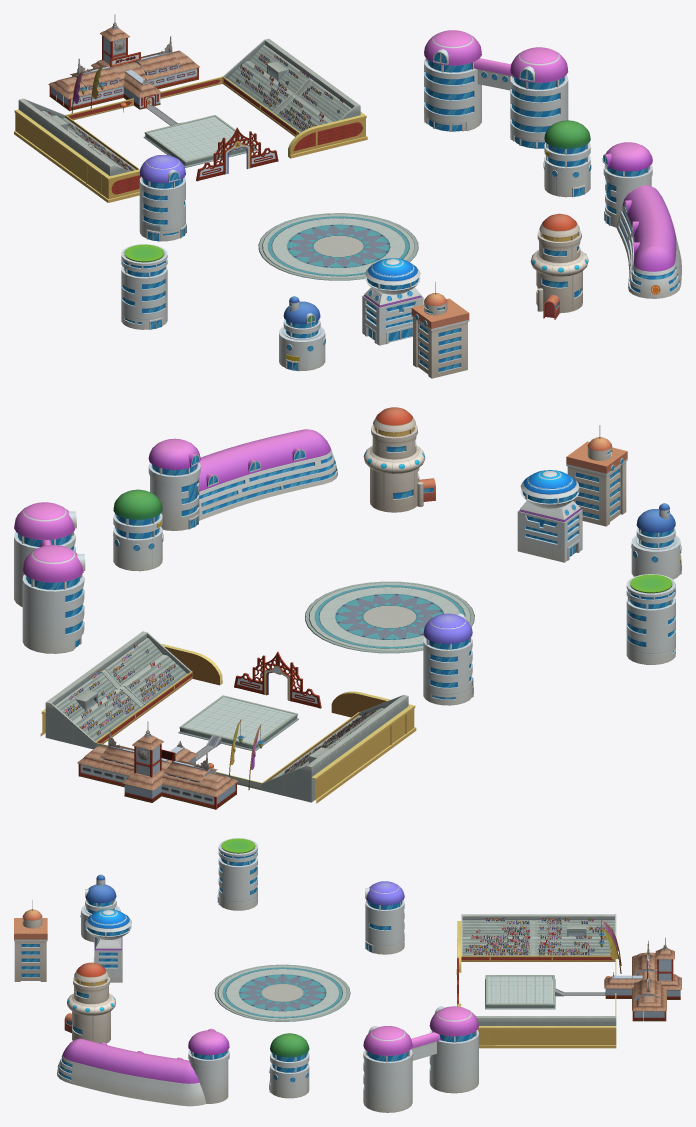
Rendered from zhucheng_jianzhu01.FBX.
The picture shows the model from 3 angles, top to bottom: view 1: azimuth 30°, elevation 25°; view 2: azimuth 150°, elevation 25°; view 3: azimuth 270°, elevation 25°; orthographic projection. The views are drawn at different scales.
Visible parts, largest first — view 1: diqiuzhucheng_wudaochang_zhong_01, diqiuzhucheng_jianzhu_10, diqiuzhucheng_jianzhu_06, zhucheng_zhongxintai, diqiuzhucheng_wudaochang_zhong_fang, diqiuzhucheng_jianzhu_13, diqiuzhucheng_jianzhu_11, diqiuzhucheng_jianzhu_14, diqiuzhucheng_jianzhu_09, diqiuzhucheng_jianzhu_04, diqiuzhucheng_jianzhu_08, diqiuzhucheng_jianzhu_05 (+2 smaller); view 2: diqiuzhucheng_wudaochang_zhong_01, diqiuzhucheng_jianzhu_06, diqiuzhucheng_jianzhu_10, zhucheng_zhongxintai, diqiuzhucheng_wudaochang_zhong_fang, diqiuzhucheng_jianzhu_13, diqiuzhucheng_jianzhu_11, diqiuzhucheng_jianzhu_09, diqiuzhucheng_jianzhu_04, diqiuzhucheng_jianzhu_14, diqiuzhucheng_jianzhu_08, diqiuzhucheng_jianzhu_05 (+2 smaller); view 3: diqiuzhucheng_wudaochang_zhong_01, diqiuzhucheng_jianzhu_06, diqiuzhucheng_jianzhu_10, zhucheng_zhongxintai, diqiuzhucheng_wudaochang_zhong_fang, diqiuzhucheng_jianzhu_13, diqiuzhucheng_jianzhu_09, diqiuzhucheng_jianzhu_04, diqiuzhucheng_jianzhu_08, diqiuzhucheng_jianzhu_14, diqiuzhucheng_wudaochang_zhong_02, diqiuzhucheng_jianzhu_11 (+1 smaller).
Part boxes in pixels (x1=…): diqiuzhucheng_wudaochang_zhong_01: x1=14, y1=38, x2=367, y2=202; diqiuzhucheng_jianzhu_10: x1=424, y1=30, x2=568, y2=148; diqiuzhucheng_jianzhu_06: x1=602, y1=142, x2=681, y2=298; zhucheng_zhongxintai: x1=258, y1=213, x2=418, y2=280; diqiuzhucheng_wudaochang_zhong_fang: x1=48, y1=14, x2=199, y2=111; diqiuzhucheng_jianzhu_13: x1=530, y1=213, x2=588, y2=319; diqiuzhucheng_jianzhu_11: x1=362, y1=258, x2=423, y2=345; diqiuzhucheng_jianzhu_14: x1=411, y1=281, x2=469, y2=378; diqiuzhucheng_jianzhu_09: x1=121, y1=244, x2=167, y2=329; diqiuzhucheng_jianzhu_04: x1=139, y1=155, x2=186, y2=241; diqiuzhucheng_jianzhu_08: x1=543, y1=120, x2=591, y2=197; diqiuzhucheng_jianzhu_05: x1=279, y1=296, x2=325, y2=371; diqiuzhucheng_wudaochang_zhong_01: x1=40, y1=631, x2=416, y2=803; diqiuzhucheng_jianzhu_06: x1=148, y1=429, x2=337, y2=530; diqiuzhucheng_jianzhu_10: x1=14, y1=502, x2=85, y2=653; zhucheng_zhongxintai: x1=305, y1=581, x2=474, y2=653; diqiuzhucheng_wudaochang_zhong_fang: x1=77, y1=721, x2=238, y2=809; diqiuzhucheng_jianzhu_13: x1=363, y1=407, x2=435, y2=512; diqiuzhucheng_jianzhu_11: x1=517, y1=470, x2=582, y2=562; diqiuzhucheng_jianzhu_09: x1=626, y1=574, x2=675, y2=664; diqiuzhucheng_jianzhu_04: x1=423, y1=613, x2=473, y2=705; diqiuzhucheng_jianzhu_14: x1=566, y1=425, x2=627, y2=526; diqiuzhucheng_jianzhu_08: x1=113, y1=489, x2=163, y2=571; diqiuzhucheng_jianzhu_05: x1=631, y1=503, x2=681, y2=579; diqiuzhucheng_wudaochang_zhong_01: x1=456, y1=914, x2=616, y2=1048; diqiuzhucheng_jianzhu_06: x1=57, y1=1028, x2=229, y2=1106; diqiuzhucheng_jianzhu_10: x1=363, y1=1006, x2=478, y2=1112; zhucheng_zhongxintai: x1=214, y1=964, x2=350, y2=1021; diqiuzhucheng_wudaochang_zhong_fang: x1=604, y1=937, x2=681, y2=1021; diqiuzhucheng_jianzhu_13: x1=64, y1=962, x2=115, y2=1043; diqiuzhucheng_jianzhu_09: x1=217, y1=838, x2=257, y2=910; diqiuzhucheng_jianzhu_04: x1=365, y1=881, x2=404, y2=954; diqiuzhucheng_jianzhu_08: x1=269, y1=1033, x2=309, y2=1098; diqiuzhucheng_jianzhu_14: x1=14, y1=900, x2=47, y2=981; diqiuzhucheng_wudaochang_zhong_02: x1=465, y1=917, x2=613, y2=955; diqiuzhucheng_jianzhu_11: x1=85, y1=909, x2=131, y2=982.
Size of the model in its own units: 20959 by 3341 by 27061.
